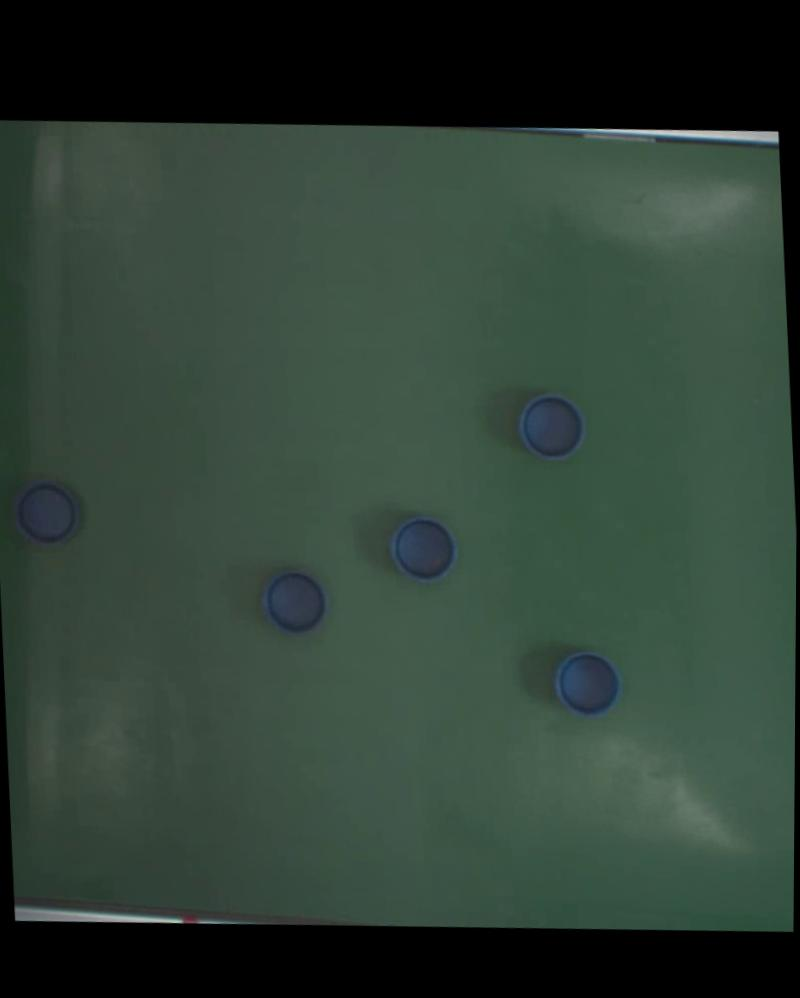dark_blue: (385, 512, 458, 586), (513, 389, 585, 463), (13, 481, 76, 549), (265, 569, 327, 638), (556, 652, 618, 720)
